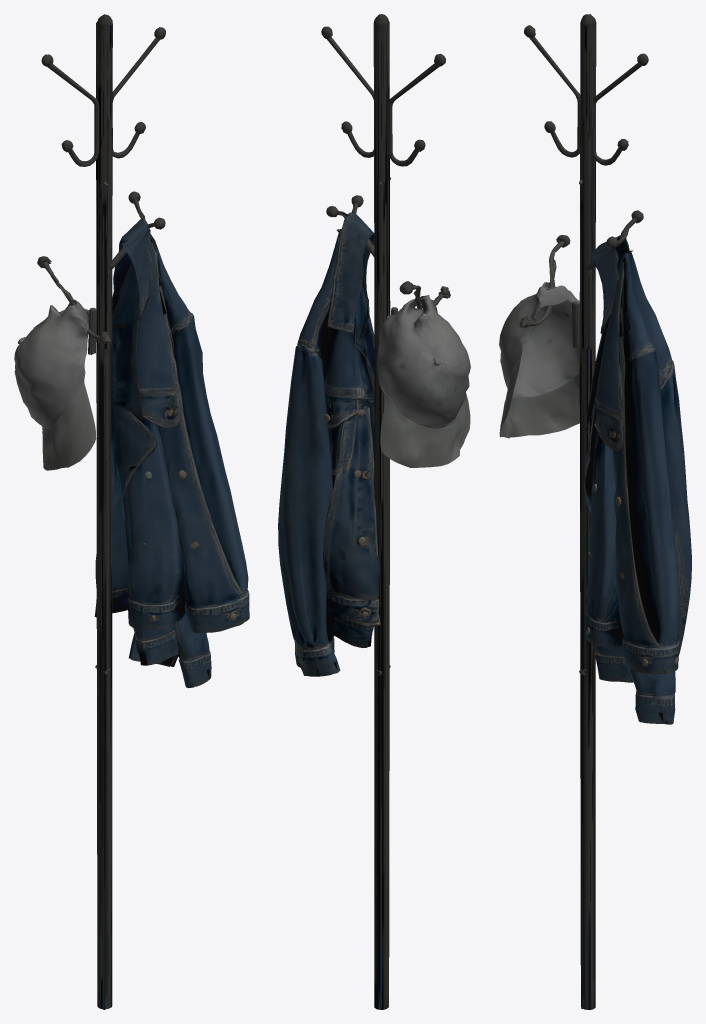
The model's file is desktop.glb.
3 views of the same model, side by side, from view 1: azimuth 30°, elevation 25°; view 2: azimuth 150°, elevation 25°; view 3: azimuth 330°, elevation 25° (orthographic).
Parts seen in each view (by area): view 1: coatrack; view 2: coatrack; view 3: coatrack.
Boxes of the visible parts, x1=… form: coatrack: x1=14, y1=14, x2=249, y2=1009; coatrack: x1=278, y1=14, x2=470, y2=1009; coatrack: x1=499, y1=14, x2=691, y2=1009.
Bounding box in the file's own units: 0.3693 × 1.75 × 0.1887.
1 material, 1 textured.
